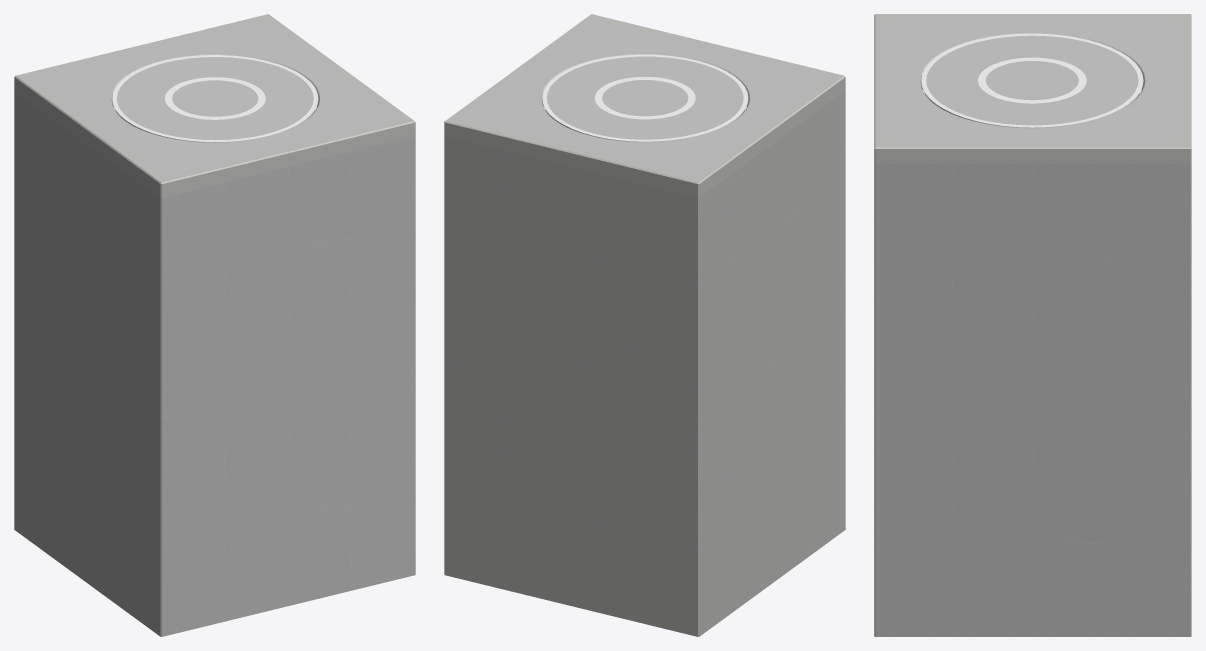
The model's file is PlatformLargeColumn2OscY.fbx.
The picture shows the model from 3 angles, left to right: view 1: azimuth 30°, elevation 25°; view 2: azimuth 150°, elevation 25°; view 3: azimuth 270°, elevation 25°; orthographic projection. The views are drawn at different scales.
Parts seen in each view (by area): view 1: PlatformLargeColumn2OscY_floor, MediumPlatform, SmallPlatform; view 2: PlatformLargeColumn2OscY_floor, MediumPlatform, SmallPlatform; view 3: PlatformLargeColumn2OscY_floor, MediumPlatform, SmallPlatform.
Boxes of the visible parts, left/top/right/bottom form: PlatformLargeColumn2OscY_floor: left=14, top=14, right=415, bottom=636; MediumPlatform: left=112, top=55, right=318, bottom=142; SmallPlatform: left=168, top=78, right=262, bottom=118; PlatformLargeColumn2OscY_floor: left=444, top=14, right=845, bottom=636; MediumPlatform: left=542, top=54, right=748, bottom=142; SmallPlatform: left=598, top=78, right=692, bottom=117; PlatformLargeColumn2OscY_floor: left=874, top=14, right=1191, bottom=636; MediumPlatform: left=921, top=33, right=1143, bottom=128; SmallPlatform: left=981, top=59, right=1082, bottom=101.
Size of what is drawn, in the model's own units: 500 by 850 by 500.
